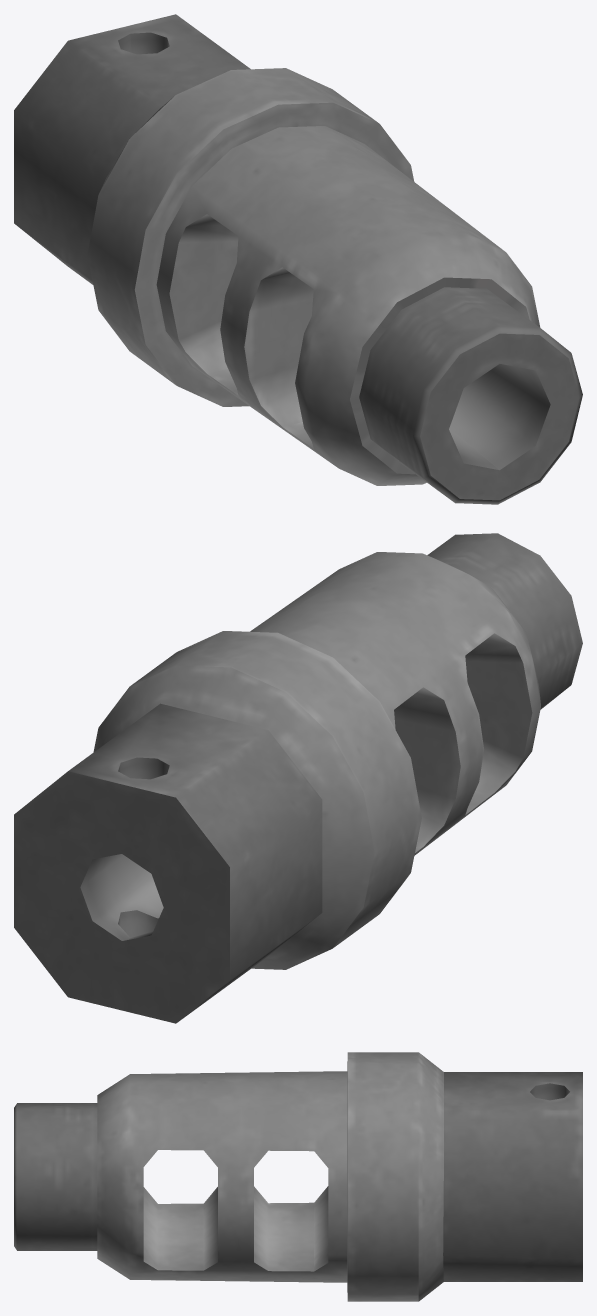
The model's file is IG_Acc_Muzzle_SNP_REC_3.fbx.
3 views of the same model, one above another, from view 1: azimuth 30°, elevation 25°; view 2: azimuth 150°, elevation 25°; view 3: azimuth 270°, elevation 25° (orthographic). The views are drawn at different scales.
Visible parts, largest first — view 1: Muzzle_SNP_REC_3; view 2: Muzzle_SNP_REC_3; view 3: Muzzle_SNP_REC_3.
Boxes of the visible parts, <box> form: Muzzle_SNP_REC_3: <box>14,14,582,504</box>; Muzzle_SNP_REC_3: <box>14,533,582,1023</box>; Muzzle_SNP_REC_3: <box>14,1052,582,1301</box>.
Size of the model in its own units: 0.07 by 0.07 by 0.1595.
